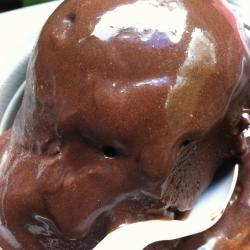icecream: (31, 1, 236, 224)
